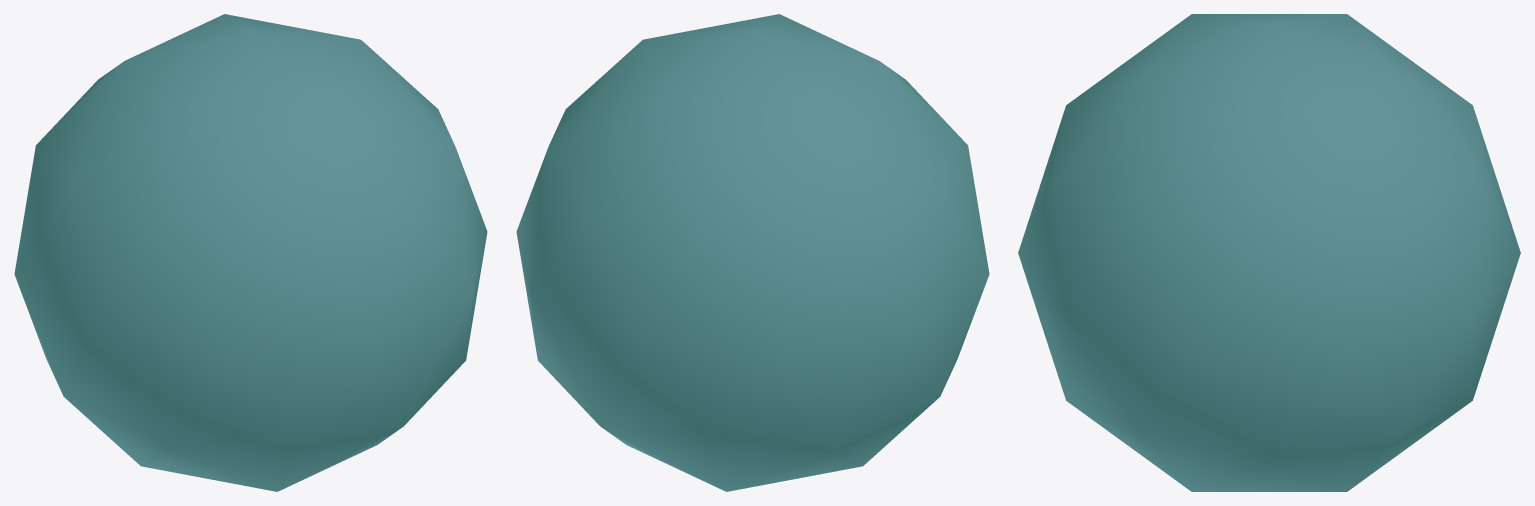
Rendered from projects.glb.
3 renders of one model, left to right at view 1: azimuth 30°, elevation 25°; view 2: azimuth 150°, elevation 25°; view 3: azimuth 270°, elevation 25°, orthographic. The views are drawn at different scales.
Parts seen in each view (by area): view 1: sightmate_detail_5_shell; view 2: sightmate_detail_5_shell; view 3: sightmate_detail_5_shell.
Boxes of the visible parts, box(x1,y1,x2,y2) form: sightmate_detail_5_shell: box(14, 14, 487, 491); sightmate_detail_5_shell: box(516, 14, 989, 491); sightmate_detail_5_shell: box(1018, 14, 1520, 491).
Size of what is drawn, in the model's own units: 0.6087 by 0.64 by 0.64.
